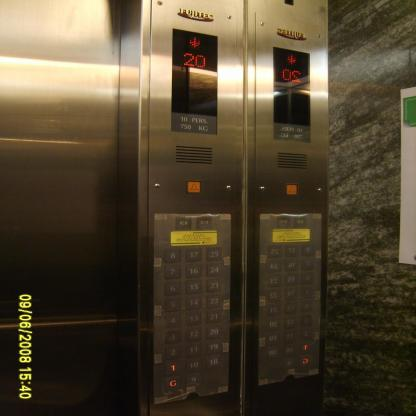1: (164, 360, 182, 374)
10: (184, 358, 202, 372)
11: (184, 342, 202, 357)
12: (185, 326, 203, 340)
13: (185, 310, 203, 325)
14: (184, 294, 202, 310)
15: (184, 279, 202, 294)
16: (184, 263, 202, 278)
17: (184, 247, 202, 262)
18: (205, 354, 223, 368)
19: (205, 339, 223, 354)
2: (164, 344, 182, 360)
20: (204, 324, 222, 339)
21: (204, 308, 223, 324)
22: (204, 293, 222, 308)
23: (204, 277, 223, 293)
24: (205, 262, 223, 277)
25: (205, 245, 223, 261)
3: (164, 328, 182, 344)
4: (164, 312, 182, 327)
5: (164, 296, 182, 312)
6: (164, 280, 182, 295)
7: (164, 264, 182, 279)
8: (164, 248, 182, 263), (300, 243, 315, 256)
9: (184, 372, 202, 387)
G: (164, 376, 182, 390)
alarm: (185, 178, 203, 194), (284, 182, 299, 197)
close: (194, 215, 212, 230), (275, 215, 291, 229)
led: (169, 25, 222, 136), (267, 44, 312, 144)
open: (174, 215, 192, 231), (292, 214, 309, 229)
unknown: (266, 259, 282, 272), (266, 274, 282, 287), (300, 258, 316, 271), (266, 318, 281, 331), (283, 258, 298, 271), (283, 287, 298, 300), (282, 329, 297, 342), (297, 341, 312, 354), (300, 272, 315, 285), (300, 286, 315, 299), (266, 289, 282, 301), (282, 302, 298, 314), (282, 316, 298, 328), (266, 332, 280, 345), (282, 344, 296, 357), (300, 300, 314, 313), (267, 245, 282, 257), (283, 244, 298, 256), (266, 304, 281, 316), (265, 346, 280, 358), (283, 273, 298, 285), (298, 328, 313, 340), (298, 355, 313, 367), (299, 314, 314, 326), (282, 358, 296, 369)
